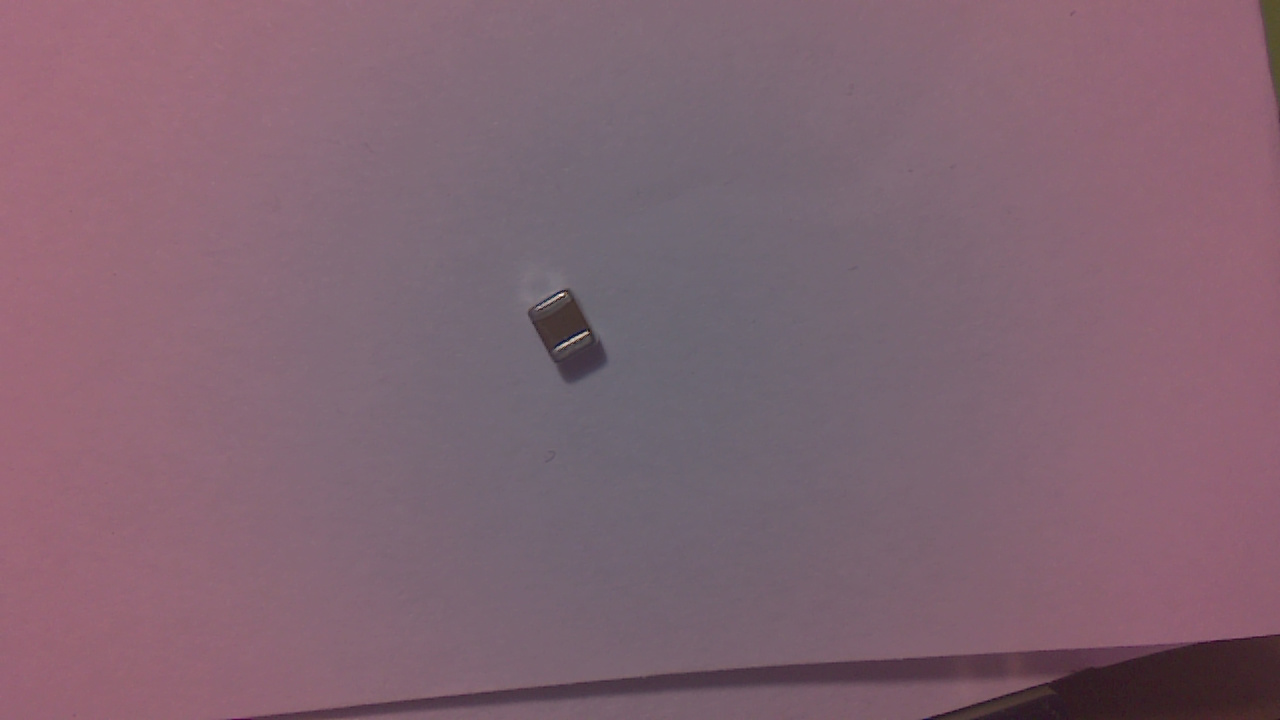Condensator: (535, 294, 607, 368)
